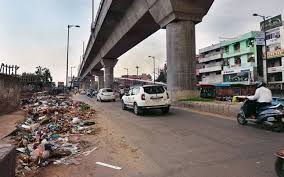garbage: (27, 93, 89, 159)
